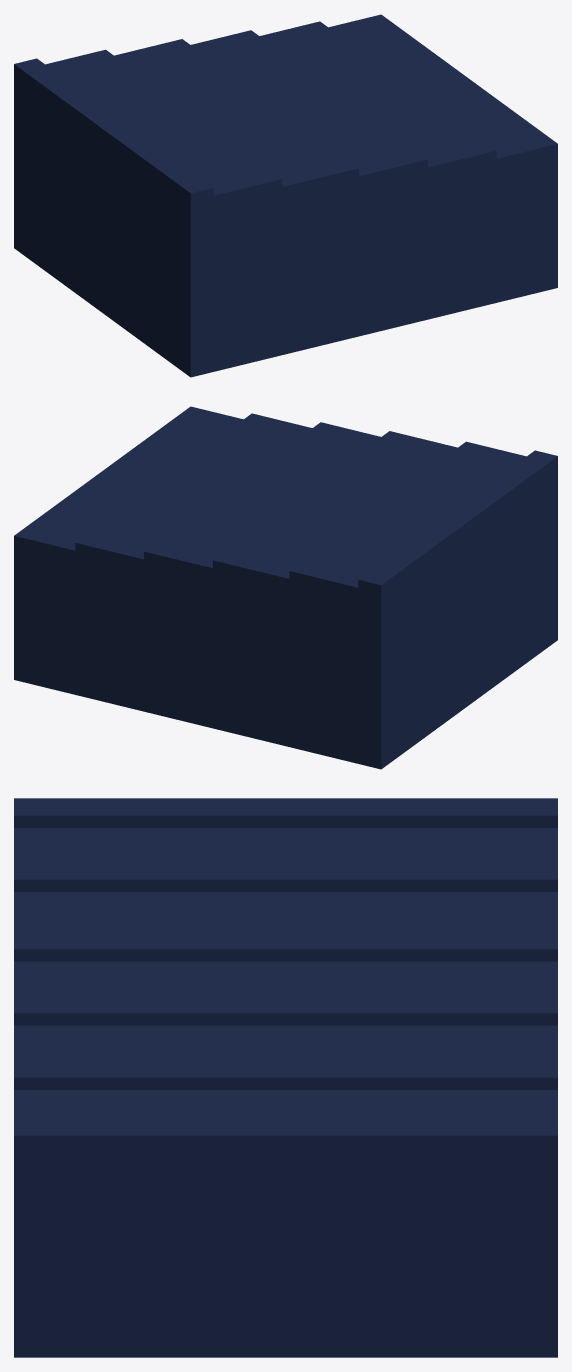
Rendered from swat_truck_bonnet.glb.
The picture shows the model from 3 angles, top to bottom: view 1: azimuth 30°, elevation 25°; view 2: azimuth 150°, elevation 25°; view 3: azimuth 270°, elevation 25°; orthographic projection. The views are drawn at different scales.
Visible parts, largest first — view 1: body:compound; view 2: body:compound; view 3: body:compound.
Part boxes in pixels (x1=…): body:compound: x1=14, y1=14, x2=557, y2=377; body:compound: x1=14, y1=406, x2=557, y2=769; body:compound: x1=14, y1=798, x2=557, y2=1357.
Bounding box in the file's own units: 1.5 × 0.7188 × 1.25.
